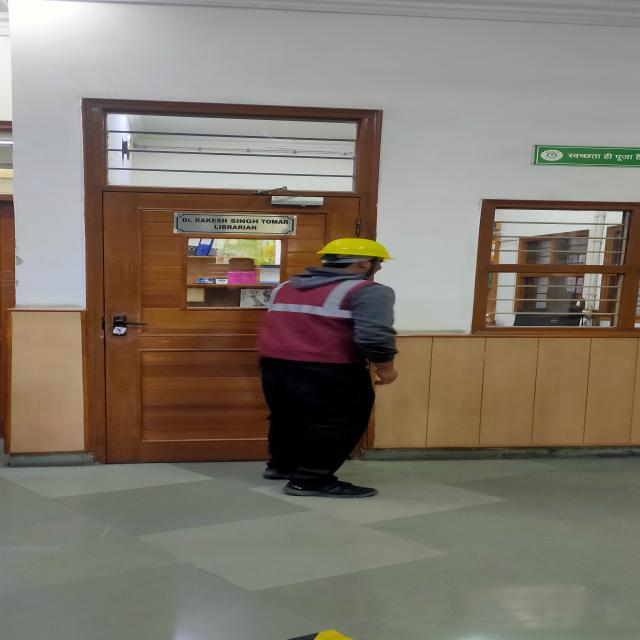safe: (260, 238, 397, 498)
